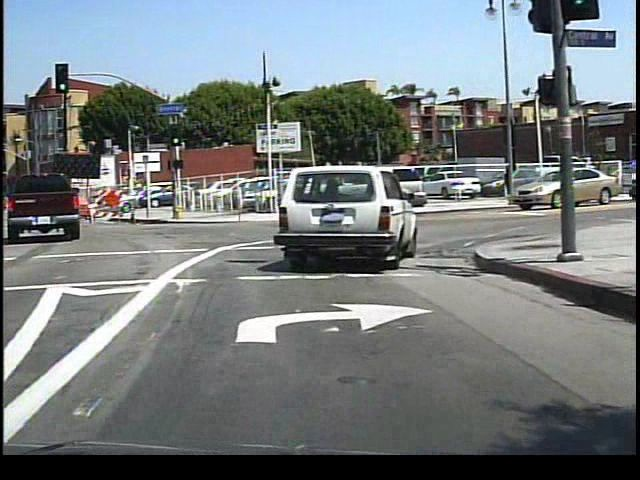person: (499, 160, 519, 204)
